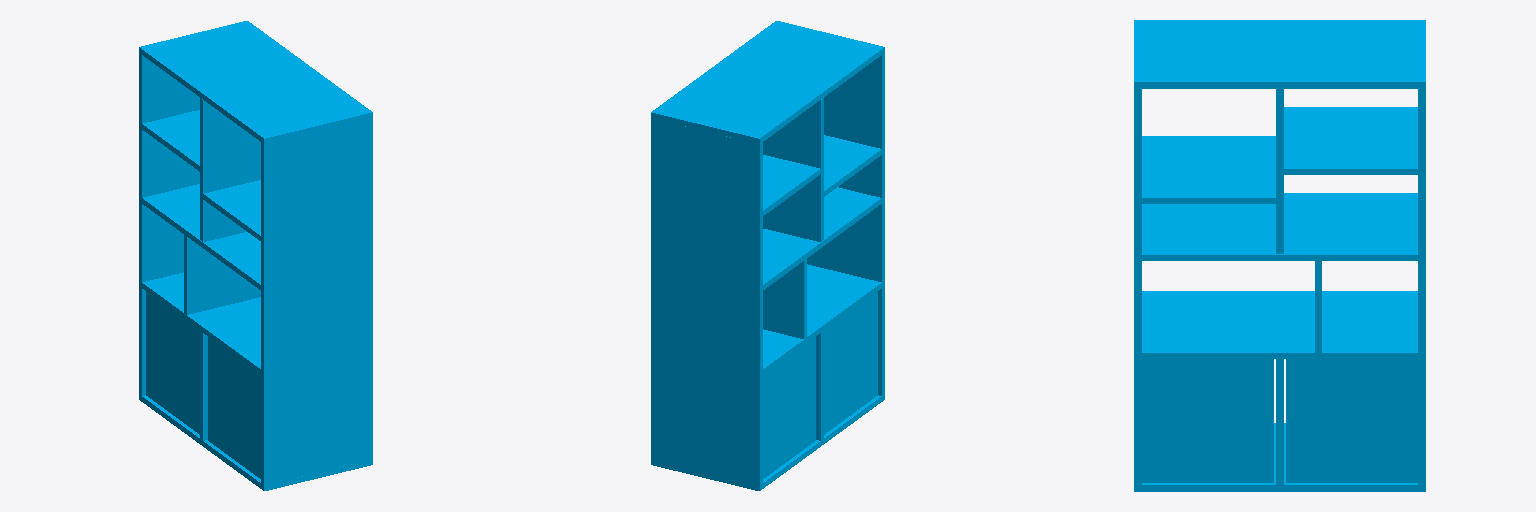
robot.urdf — cupboard.urdf:
<?xml version="1.0" ?>
<robot name="cupboard.urdf">
  <link concave="yes" name="baseLink">
    <inertial>
      <origin rpy="0 0 0" xyz="0.0 0.0 0.0"/>
       <mass value=".0"/>
       <inertia ixx="0" ixy="0" ixz="0" iyy="0" iyz="0" izz="0"/>
    </inertial>

    <visual>
      <origin rpy="1.57075 0 0" xyz="0 0 0"/>
      <geometry>
        <mesh filename="cupboard.obj" scale="1 1 1"/>
      </geometry>
       <material name="red">
        <color rgba="0 0.75 1 1"/>
      </material>
    </visual>

    <collision concave="yes">
      <origin rpy="1.57075 0 0" xyz="0 0 0"/>
      <geometry>
	 	    <mesh filename="cupboard.obj" scale="1 1 1"/>
      </geometry>
    </collision>
  </link>
</robot>

--- Render facts (derived) ---
Views: 3 orthographic renders of the robot side by side, from view 1: azimuth 30°, elevation 25°; view 2: azimuth 150°, elevation 25°; view 3: azimuth 270°, elevation 25°.
Robot: cupboard.urdf — 1 links, 0 joints (none); root link baseLink; default pose: every joint at zero.
Visible links, largest first — view 1: baseLink; view 2: baseLink; view 3: baseLink.
Link boxes in pixels (x1=…): baseLink: x1=139, y1=21, x2=372, y2=490; baseLink: x1=651, y1=21, x2=884, y2=490; baseLink: x1=1134, y1=20, x2=1425, y2=491.
Size in the robot's own frame: 2 by 4 by 6.2 metres.
Meshes: 1 distinct files referenced, 1 mesh visuals loaded (1 OBJ).